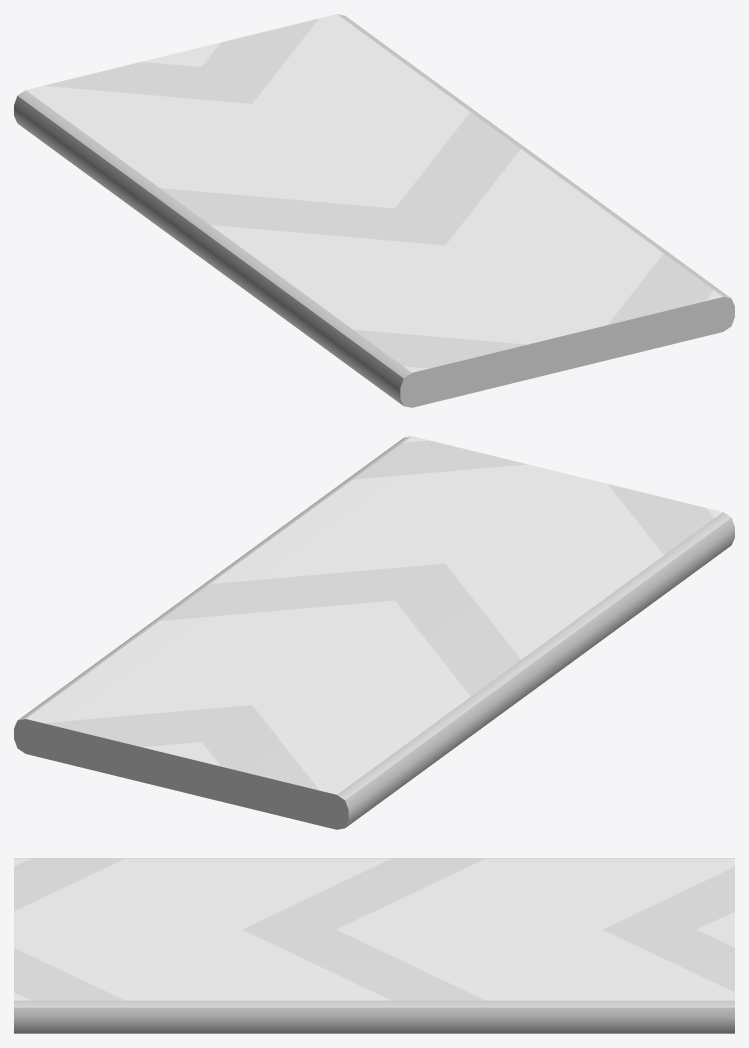
The model's file is floor_straight.fbx.
The picture shows the model from 3 angles, top to bottom: view 1: azimuth 30°, elevation 25°; view 2: azimuth 150°, elevation 25°; view 3: azimuth 270°, elevation 25°; orthographic projection. The views are drawn at different scales.
Parts seen in each view (by area): view 1: floor_straight; view 2: floor_straight; view 3: floor_straight.
Part boxes in pixels (<box>): floor_straight: <box>14,14,734,407</box>; floor_straight: <box>14,436,734,829</box>; floor_straight: <box>14,858,734,1033</box>.
Size of the model in its own units: 500 by 50 by 1000.
Materials: 2 (1 with a texture image).
